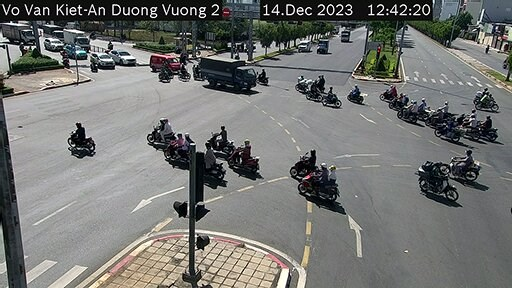car: (145, 49, 185, 75), (89, 49, 115, 67), (111, 47, 135, 66), (298, 37, 315, 59)
motorbike: (415, 164, 462, 209), (307, 156, 339, 206), (229, 135, 261, 175), (452, 147, 486, 184), (287, 146, 320, 179), (68, 120, 98, 153), (167, 129, 194, 162), (144, 115, 173, 145), (209, 123, 233, 156), (442, 117, 462, 150), (400, 99, 417, 129), (297, 72, 317, 97), (348, 83, 365, 112), (463, 115, 481, 142), (481, 113, 497, 143), (157, 61, 175, 83), (327, 86, 342, 110), (479, 86, 493, 108), (383, 82, 397, 102), (257, 67, 271, 87)
truck: (197, 51, 258, 97), (65, 26, 102, 53), (338, 24, 352, 43), (316, 38, 329, 54)
